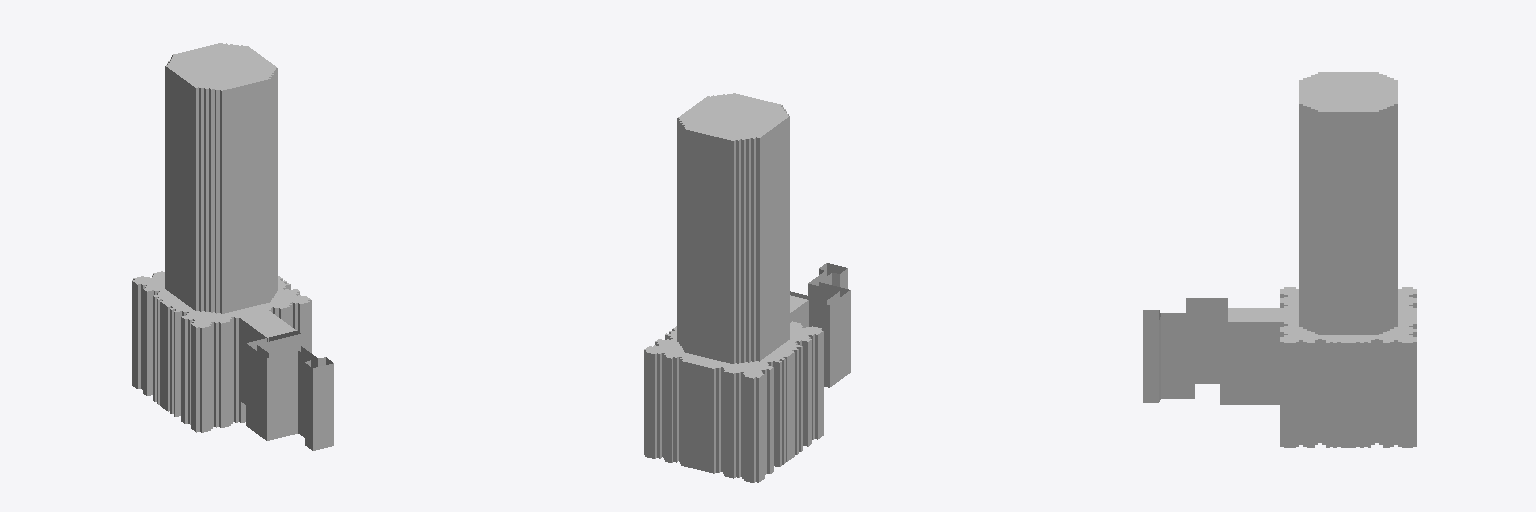
3 views of the same model, side by side, from view 1: azimuth 30°, elevation 25°; view 2: azimuth 150°, elevation 25°; view 3: azimuth 270°, elevation 25° (orthographic).
Parts seen in each view (by area): view 1: Plane.000_Plane.001, Plane.001_Plane.008; view 2: Plane.000_Plane.001, Plane.001_Plane.008; view 3: Plane.000_Plane.001, Plane.001_Plane.008.
Part boxes in pixels (x1,y1,x2,y2): Plane.000_Plane.001: (132,55,333,450); Plane.001_Plane.008: (132,43,310,337); Plane.000_Plane.001: (644,105,850,482); Plane.001_Plane.008: (644,93,822,378); Plane.000_Plane.001: (1143,104,1416,447); Plane.001_Plane.008: (1228,72,1416,342).
Size of the model in its own units: 0.5469 by 1.49 by 1.13.